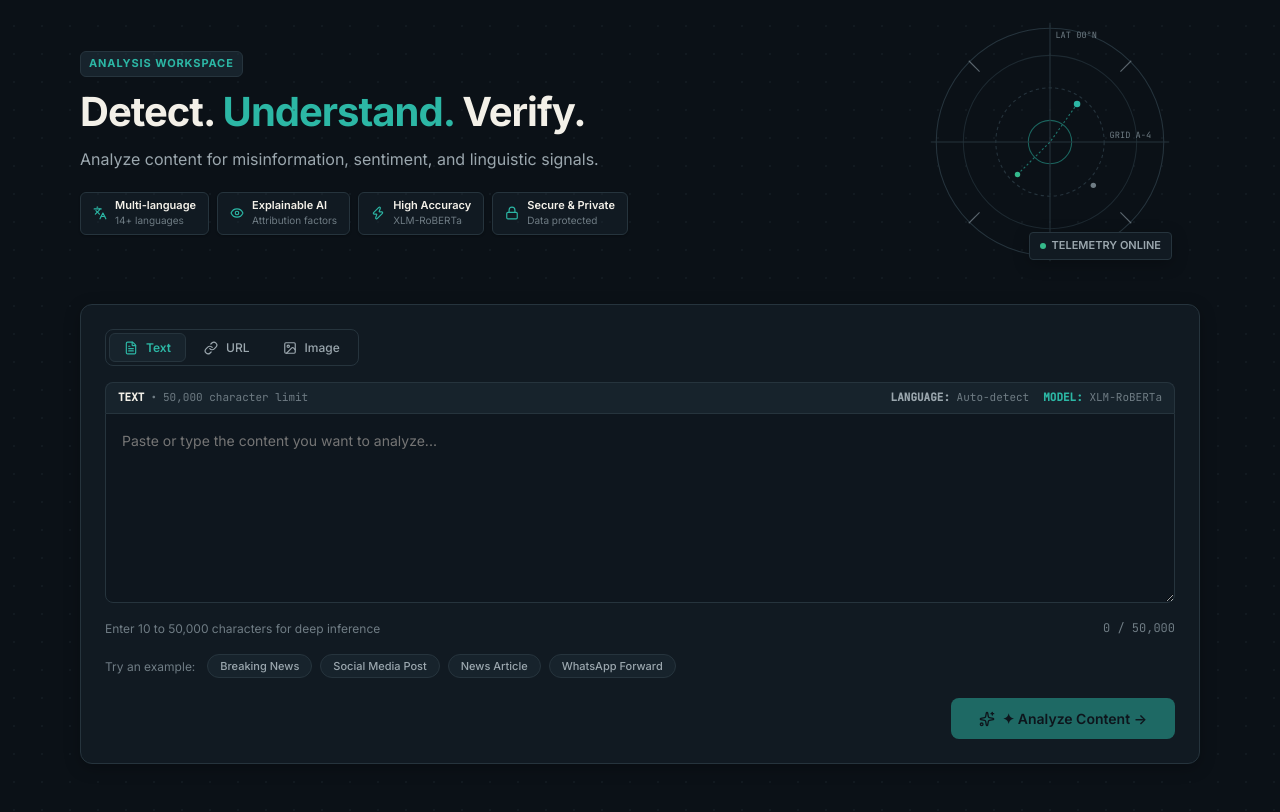
Test case: AnalyzePage — Image Analysis › switches to the Image tab and displays the upload area
Step 1. Click the tab "Image" → (311, 348), box [268, 333, 355, 362]
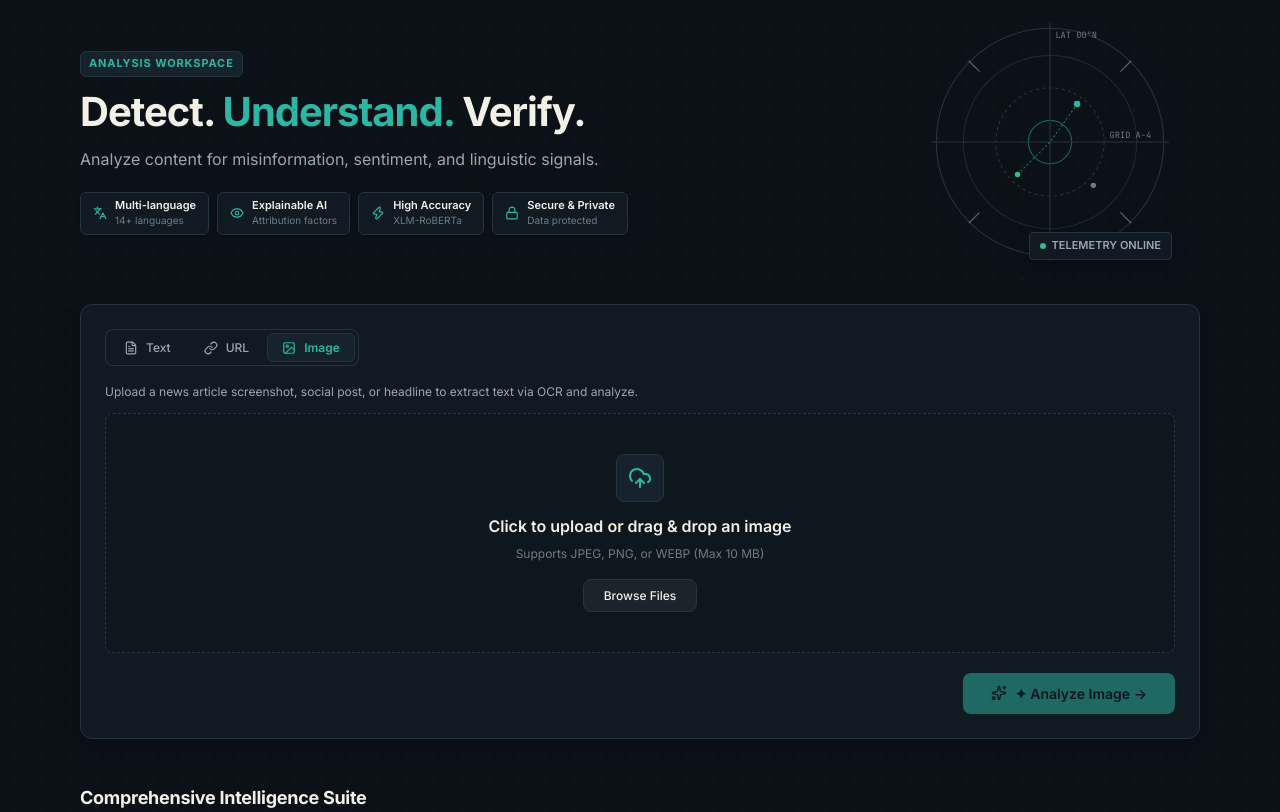
Expected: the text "Upload a news article screenshot, social post, or headline" is shown, [105, 384, 638, 399]
Expected: the text "Click to upload or drag & drop an image" is shown, [488, 516, 792, 536]
Expected: the text "Supports JPEG, PNG, or WEBP (Max 10 MB)" is shown, [516, 546, 764, 561]
